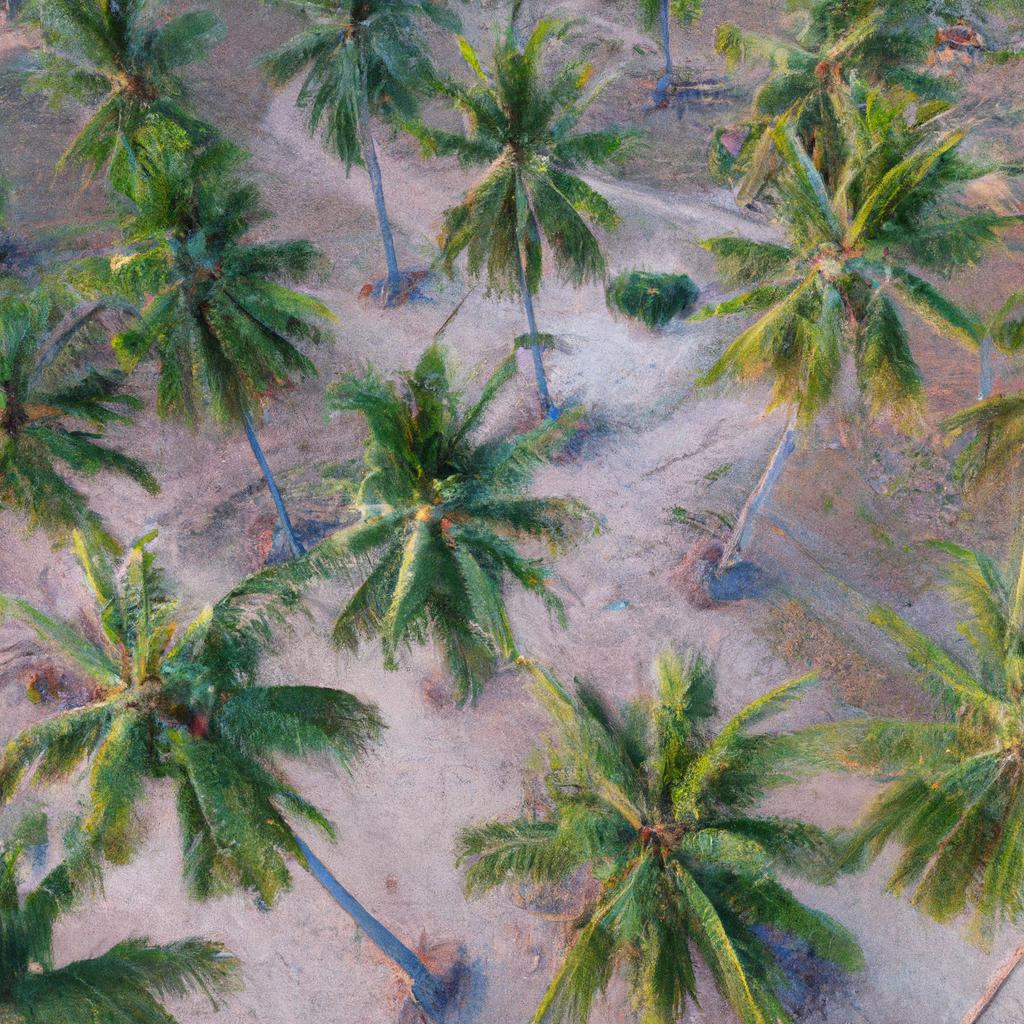coconut_tree: (21, 521, 405, 934), (508, 675, 865, 1023), (302, 348, 605, 680), (678, 158, 996, 458), (61, 185, 340, 423), (407, 50, 665, 277)
